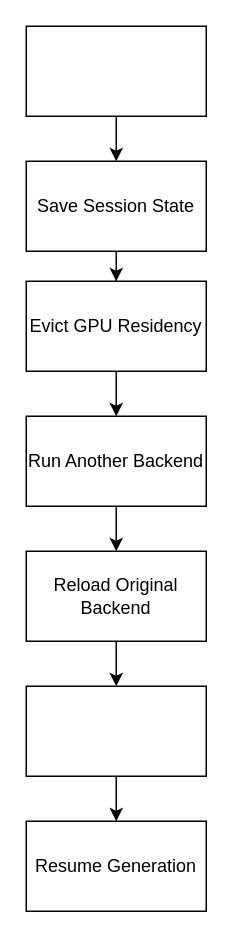
Some shapes in this 233 by 938 pixel diagram are drawn without their labels. Here are the shapes that lost their labels. From the top down, the centre of each, then its label:
(x=115, y=70): Active LLM Backend
(x=115, y=730): Restore Saved State
